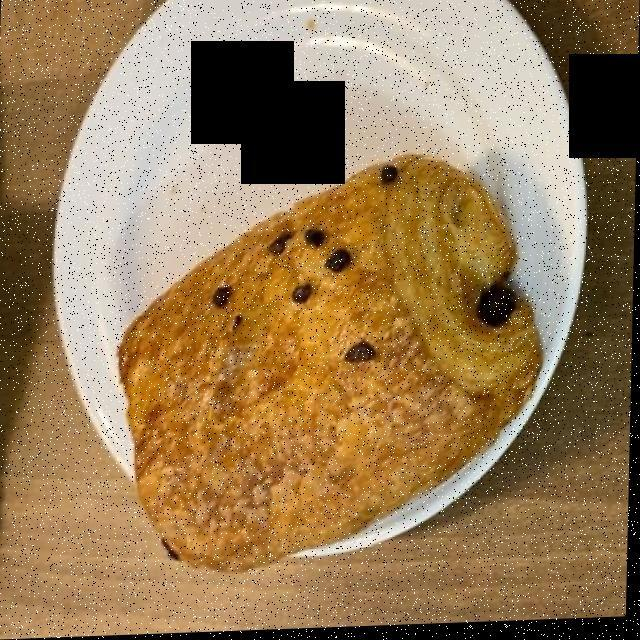croissant: (126, 165, 533, 568)
